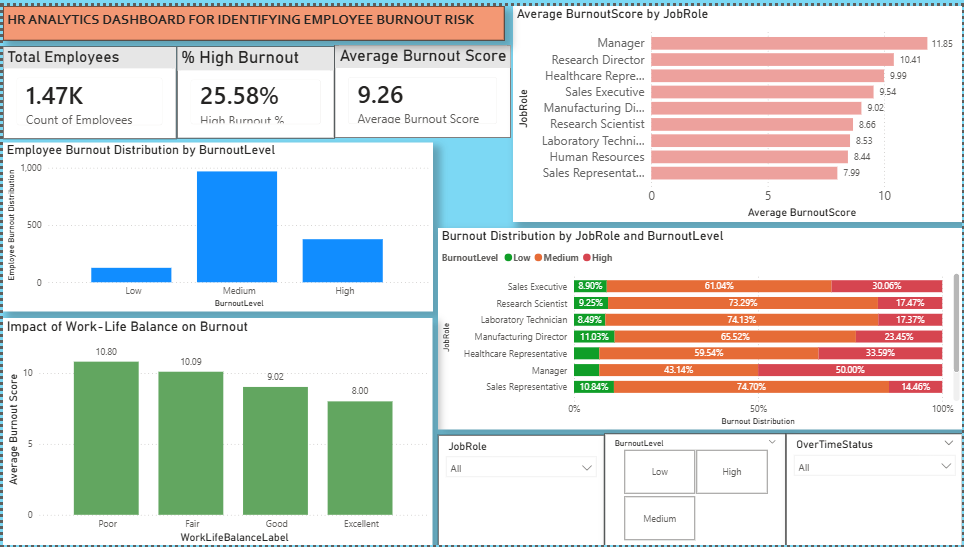

This screenshot's page, from the dashboard's own definition file:
{"tool":"powerbi","page":{"name":"Page 1","canvas":[1280,720],"ordinal":0},"visuals":[{"type":"clusteredColumnChart","fields":{"Category":["employee_burnout.BurnoutLevel"],"Y":["CountNonNull(employee_burnout.BurnoutLevel)"]},"box":[0,181.7,573.3,225],"z":0},{"type":"cardVisual","title":"Average Burnout Score","fields":{"Data":["Avg(employee_burnout.BurnoutScore)"]},"box":[441,52.5,235,124],"z":1000},{"type":"clusteredBarChart","fields":{"Category":["employee_burnout.JobRole"],"Y":["Avg(employee_burnout.BurnoutScore)"]},"box":[680.6,0,600,288],"z":2000},{"type":"hundredPercentStackedBarChart","fields":{"Category":["employee_burnout.JobRole"],"Series":["employee_burnout.BurnoutLevel"],"Y":["CountNonNull(employee_burnout.BurnoutLevel)"]},"box":[580,295,700,268.3],"z":3000},{"type":"textbox","box":[0,0,668.5,46.3],"z":4000},{"type":"clusteredColumnChart","title":"Impact of Work-Life Balance on Burnout ","fields":{"Y":["Avg(employee_burnout.BurnoutScore)"],"Category":["employee_burnout.WorkLifeBalanceLabel"]},"box":[0,415.3,572.9,305.1],"z":5000},{"type":"cardVisual","title":"Total Employees","fields":{"Data":["CountNonNull(employee_burnout.BurnoutLevel)"]},"box":[0,53,231.5,123.5],"z":6000},{"type":"cardVisual","title":"% High Burnout","fields":{"Data":["employee_burnout.High Burnout %"]},"box":[231.2,53.4,210.2,122.7],"z":7000},{"type":"slicer","fields":{"Values":["employee_burnout.JobRole"]},"box":[580,571.7,221.7,148.3],"z":8000},{"type":"slicer","fields":{"Values":["employee_burnout.BurnoutLevel"]},"box":[801.7,570,241.7,150],"z":9000},{"type":"slicer","fields":{"Values":["employee_burnout.OverTimeStatus"]},"box":[1043.3,570,236.7,150],"z":10000}]}

Visuals, with their boxes in screenshot pixels (x1, y1, x2, y2), scaled from the page's 1280x720 canvas onto the 964x547 screenshot:
clusteredColumnChart - employee_burnout.BurnoutLevel x CountNonNull(employee_burnout.BurnoutLevel): locate(0, 138, 432, 309)
"Average Burnout Score" cardVisual: locate(332, 40, 509, 134)
clusteredBarChart - employee_burnout.JobRole x Avg(employee_burnout.BurnoutScore): locate(513, 0, 963, 219)
hundredPercentStackedBarChart - employee_burnout.JobRole x employee_burnout.BurnoutLevel: locate(437, 224, 963, 428)
textbox: locate(0, 0, 503, 35)
"Impact of Work-Life Balance on Burnout " clusteredColumnChart: locate(0, 316, 431, 546)
"Total Employees" cardVisual: locate(0, 40, 174, 134)
"% High Burnout" cardVisual: locate(174, 41, 332, 134)
slicer - employee_burnout.JobRole: locate(437, 434, 604, 546)
slicer - employee_burnout.BurnoutLevel: locate(604, 433, 786, 546)
slicer - employee_burnout.OverTimeStatus: locate(786, 433, 963, 546)
